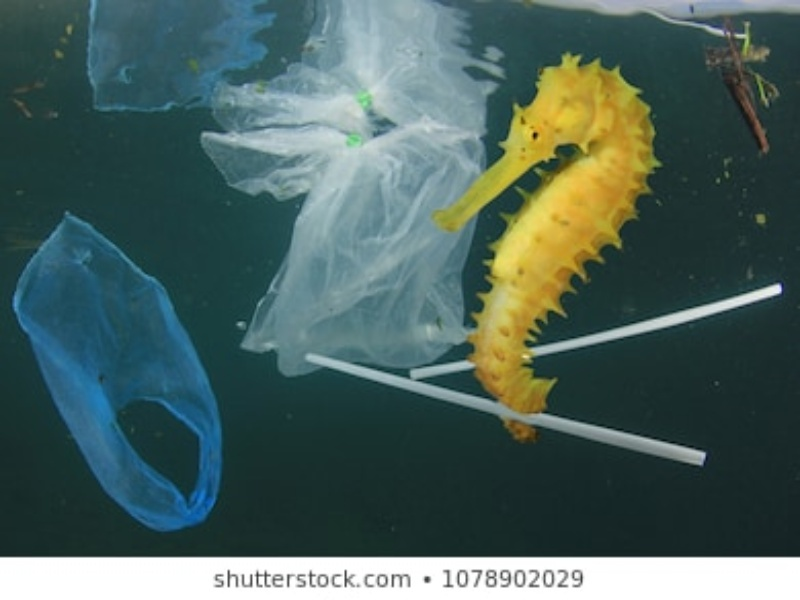plastic-bag: (234, 1, 506, 362), (10, 205, 243, 533)
straw: (301, 349, 719, 472), (401, 273, 789, 388)
